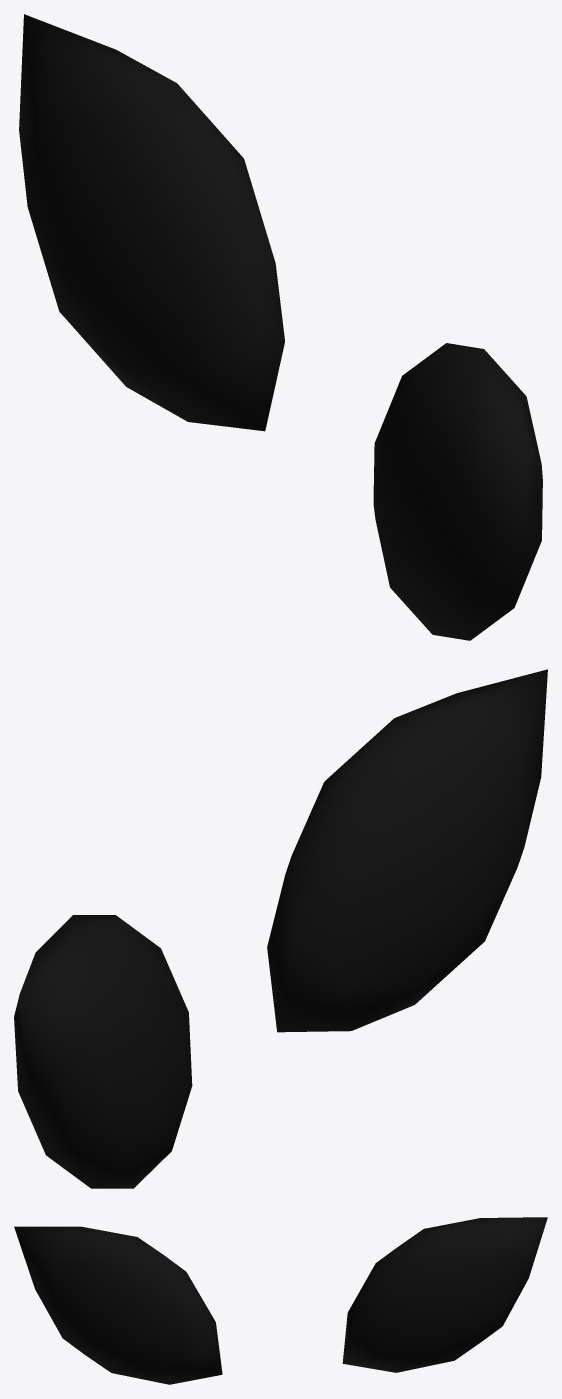
The model's file is AM_Eyes_Naru.fbx.
3 views of the same model, one above another, from view 1: azimuth 30°, elevation 25°; view 2: azimuth 150°, elevation 25°; view 3: azimuth 270°, elevation 25° (orthographic). The views are drawn at different scales.
Visible parts, largest first — view 1: AM_Eyes_Naru; view 2: AM_Eyes_Naru; view 3: AM_Eyes_Naru.
Part boxes in pixels (<box>): AM_Eyes_Naru: <box>19,14,542,640</box>; AM_Eyes_Naru: <box>14,669,547,1188</box>; AM_Eyes_Naru: <box>14,1217,547,1384</box>.
Size of the model in its own units: 9.97 by 19.62 by 59.92.
